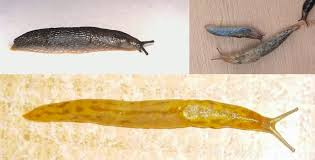slug: (22, 95, 299, 154), (7, 27, 153, 51), (214, 24, 301, 64), (205, 24, 261, 41), (297, 1, 314, 27)
